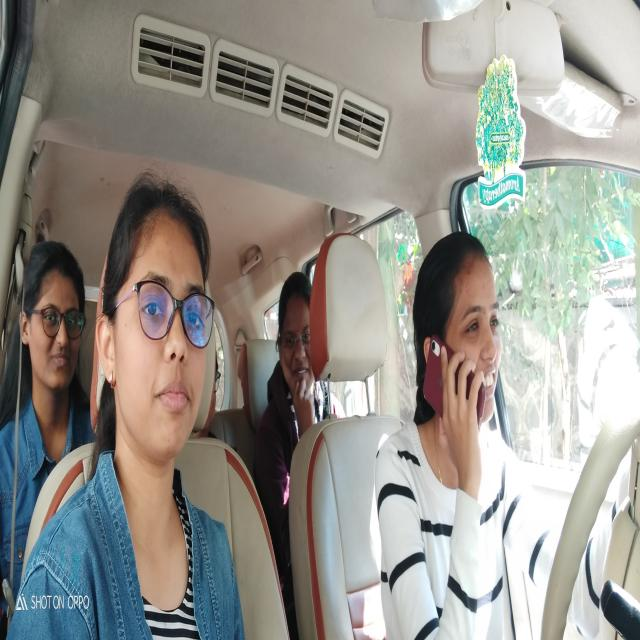mobile: (417, 320, 489, 432)
person: (91, 167, 219, 466), (407, 232, 506, 440), (18, 239, 87, 390), (272, 274, 325, 397)
